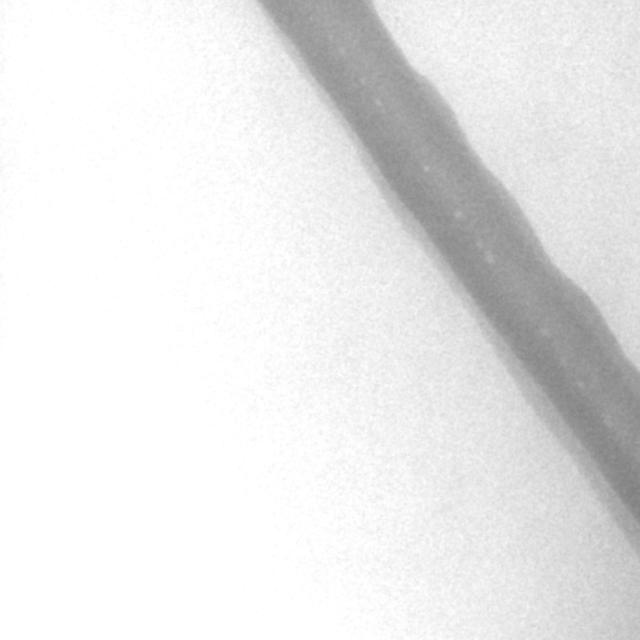air-hole: (604, 413, 612, 427), (485, 251, 493, 263), (576, 379, 584, 388), (541, 327, 548, 335), (424, 165, 429, 173), (455, 210, 460, 218), (561, 357, 566, 365), (376, 98, 381, 105), (477, 240, 481, 248), (340, 47, 344, 53), (361, 79, 364, 85), (329, 35, 332, 40)
